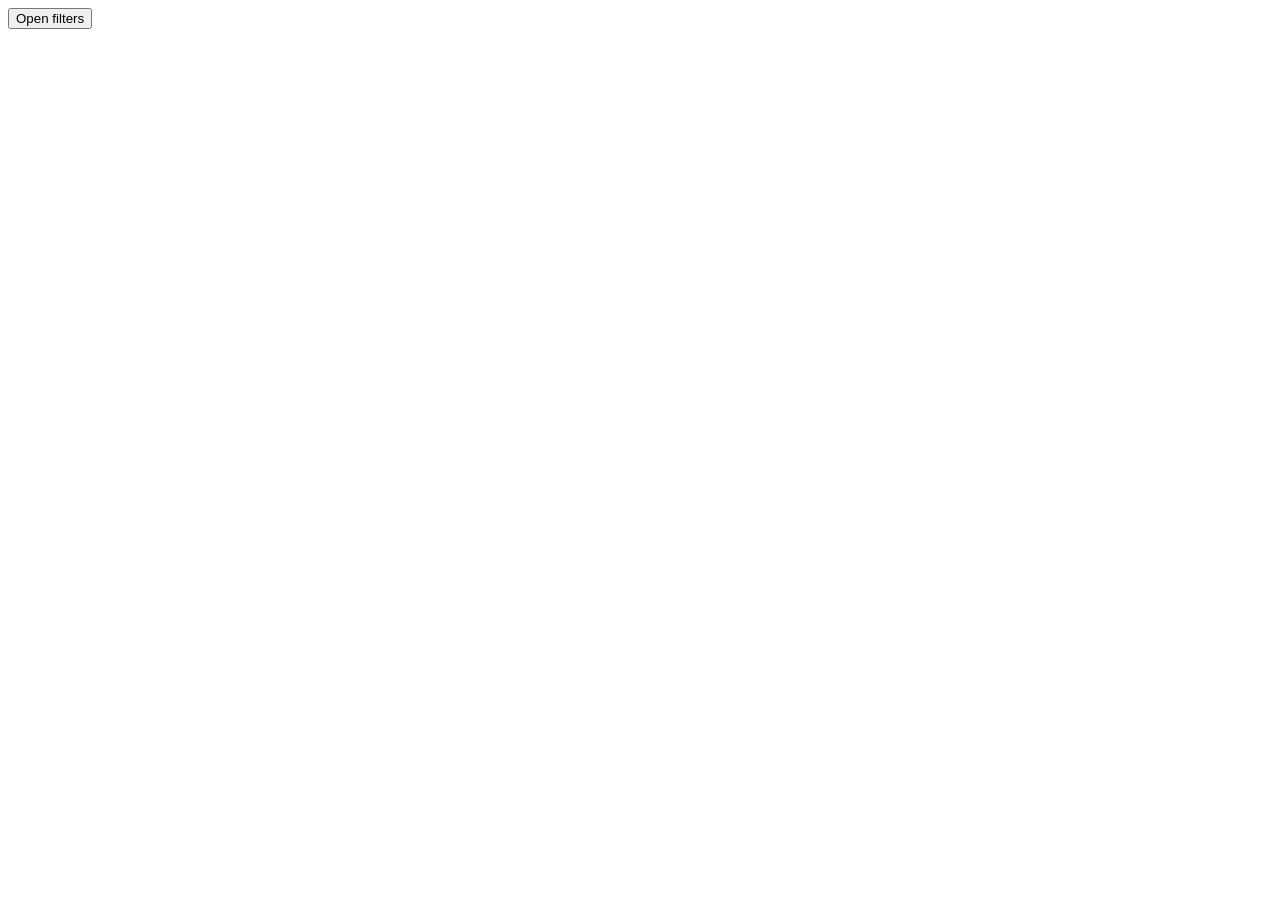
Test case: Popover › a click opens a dialog named by label with the extra class on the surface; a second click closes it
Click the button "Open filters" at coordinates (50, 18), box [8,8,92,29]
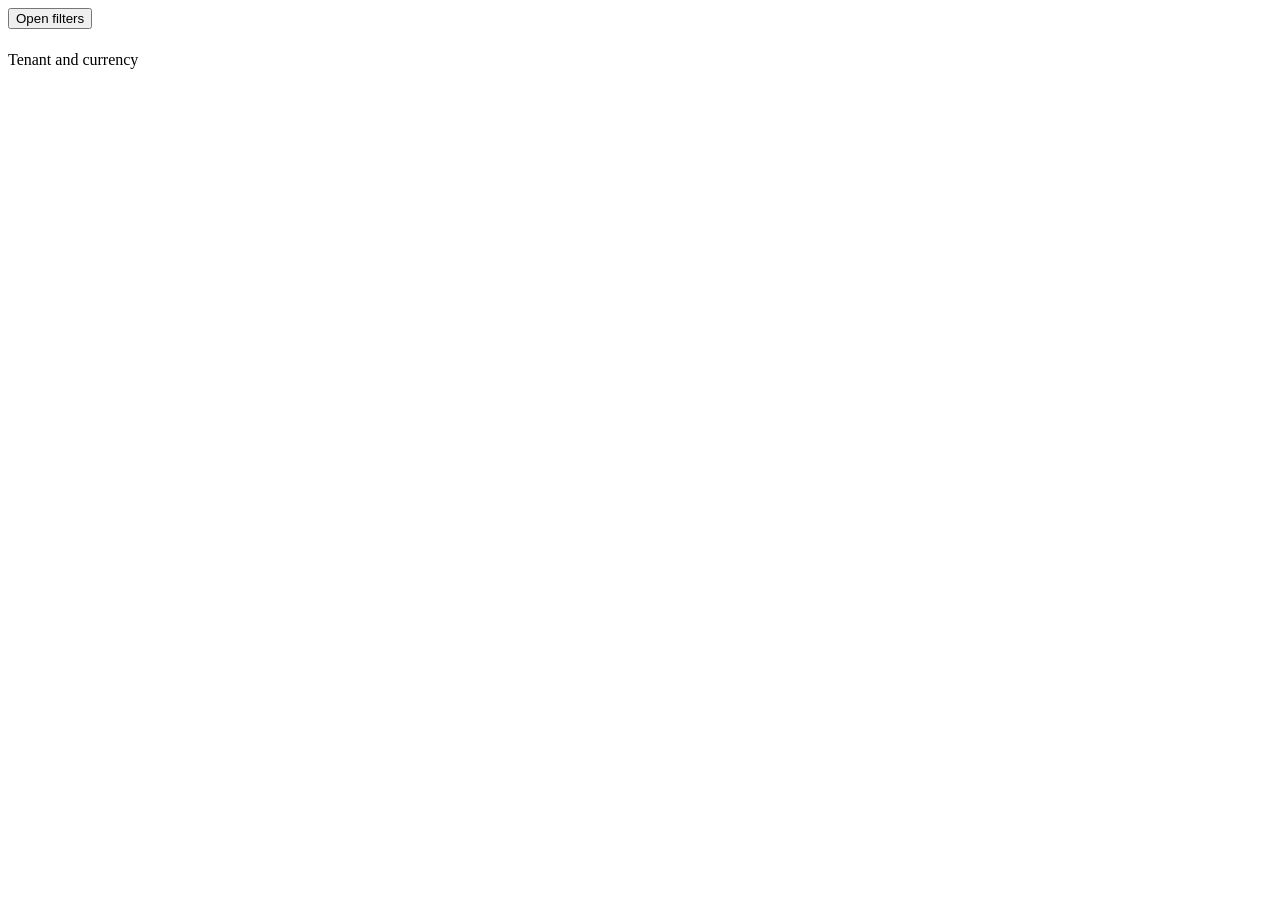
Click the button "Open filters" at coordinates (50, 18), box [8,8,92,29]
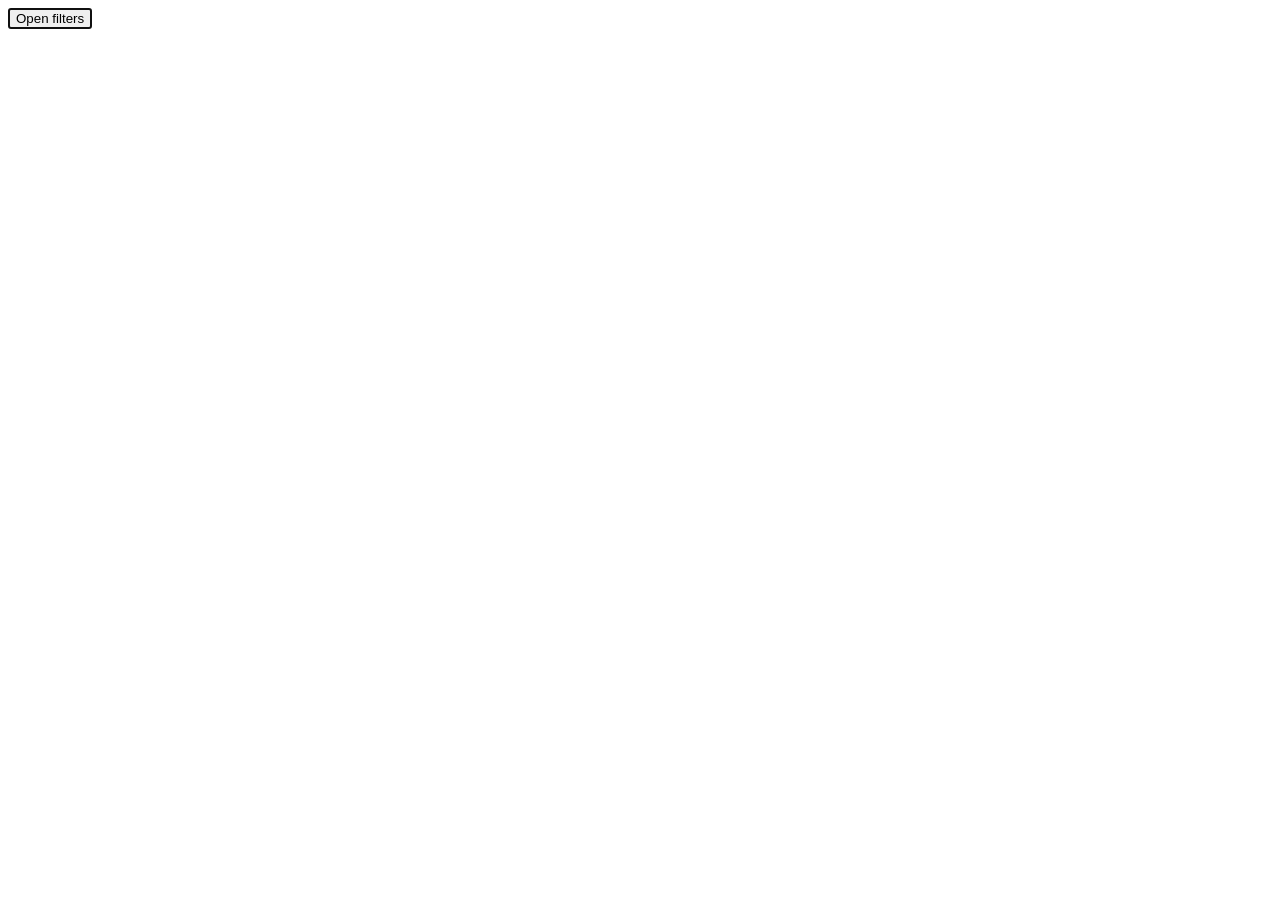
Now the dialog is gone
